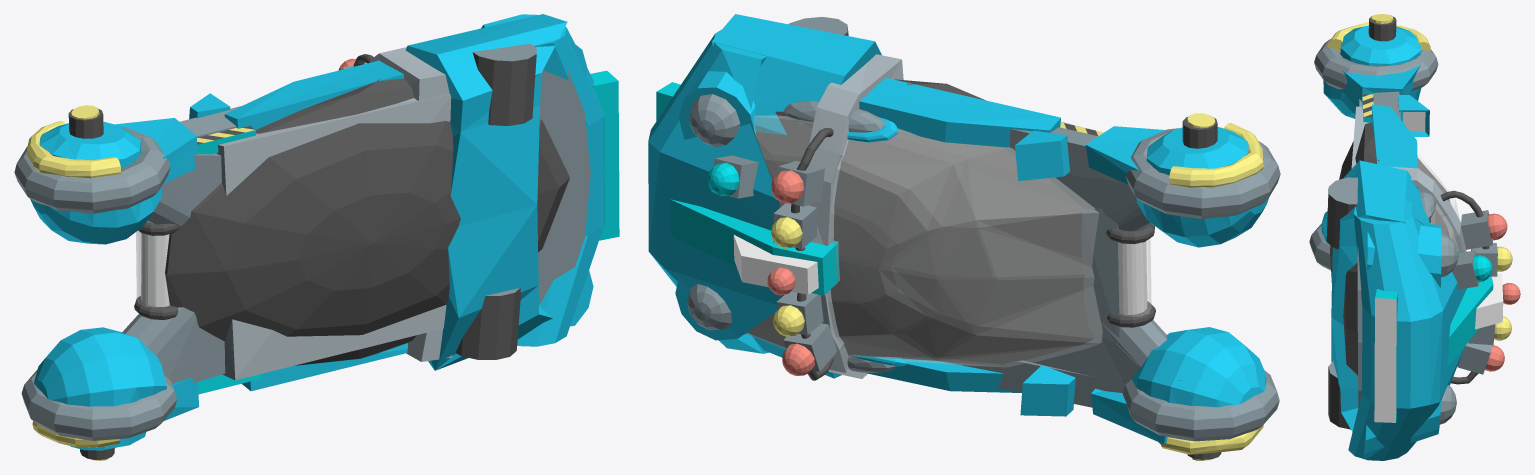
File: hovercar_01.glb
3 renders of one model, left to right at view 1: azimuth 30°, elevation 25°; view 2: azimuth 150°, elevation 25°; view 3: azimuth 270°, elevation 25°, orthographic. The views are drawn at different scales.
Parts seen in each view (by area): view 1: mesh7044159; view 2: mesh7044159; view 3: mesh7044159.
Boxes of the visible parts, box(x1,y1,x2,y2) form: mesh7044159: box(14, 14, 619, 460); mesh7044159: box(648, 14, 1280, 460); mesh7044159: box(1309, 14, 1520, 460).
Bounding box in the file's own units: 0.4915 × 0.2701 × 0.1899.
